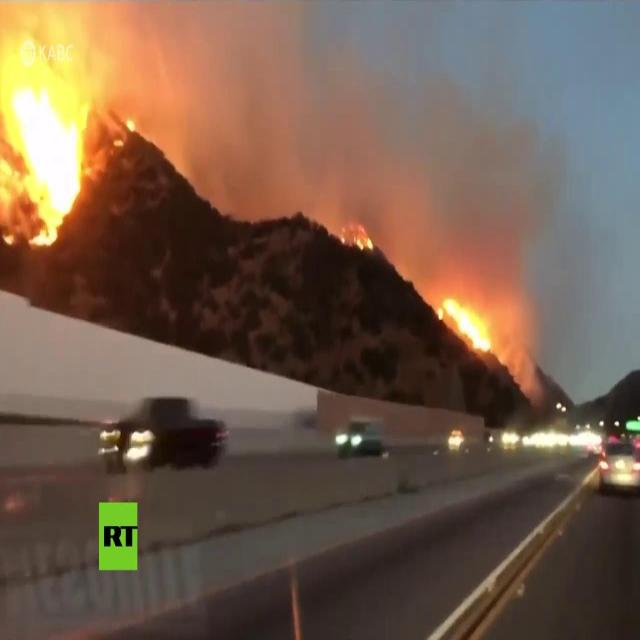Fire: (1, 52, 89, 247), (436, 295, 491, 354), (352, 222, 374, 252), (126, 116, 134, 134)
